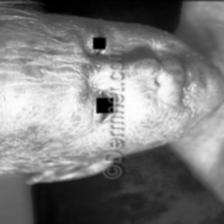Non-Cancerous Skin Condition: (74, 60, 94, 105), (126, 58, 162, 82), (22, 62, 44, 82), (148, 140, 166, 146)
